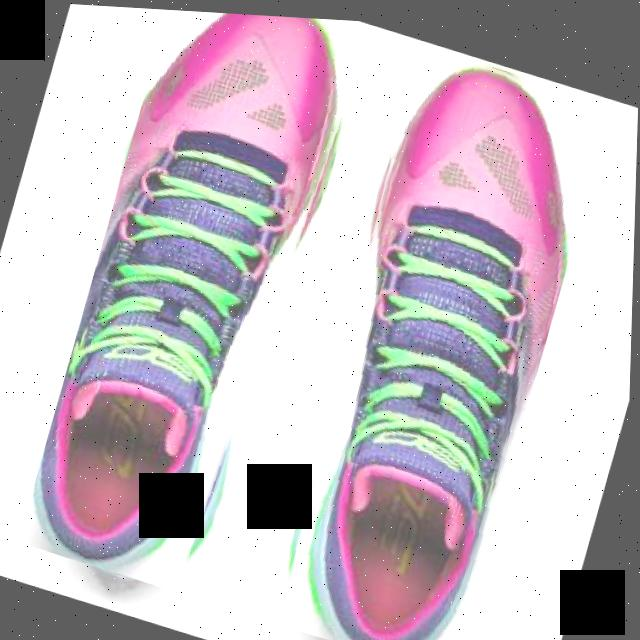shoe: (258, 28, 615, 640), (19, 2, 373, 606)
